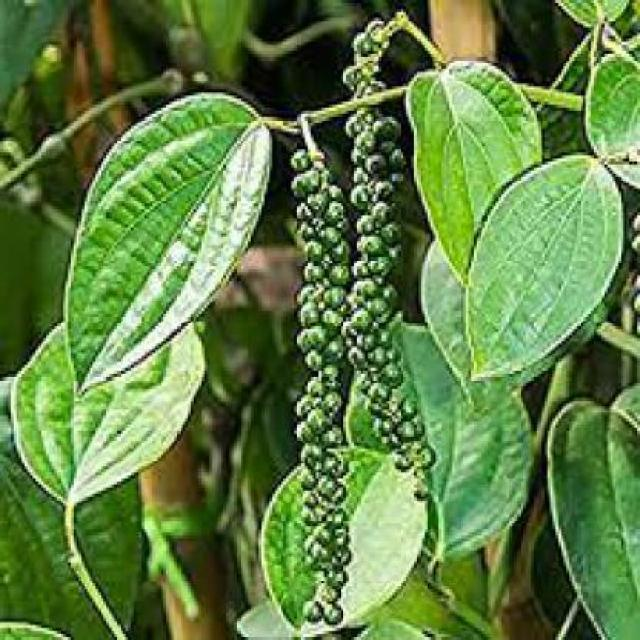UNRIPE: (286, 123, 351, 637), (366, 19, 423, 476)
